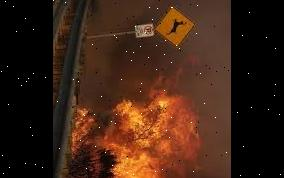fire: (71, 71, 206, 178)
